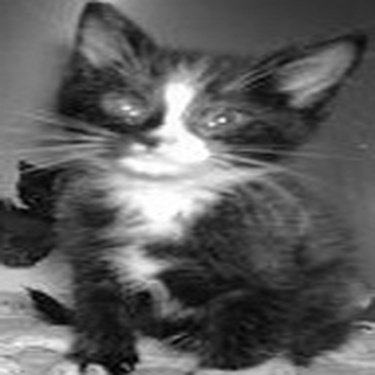cat: (13, 5, 360, 367)
